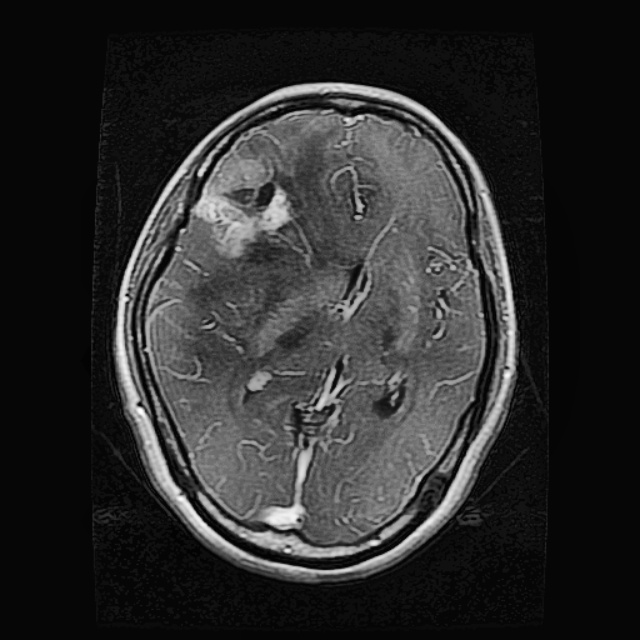Glioma: (192, 125, 294, 259)
